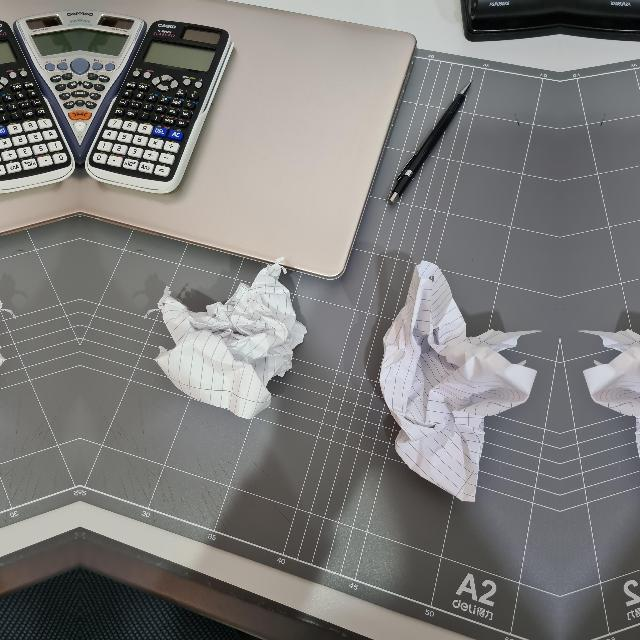paper: (380, 264, 540, 501), (155, 264, 305, 412), (579, 263, 640, 500), (0, 264, 5, 412)
